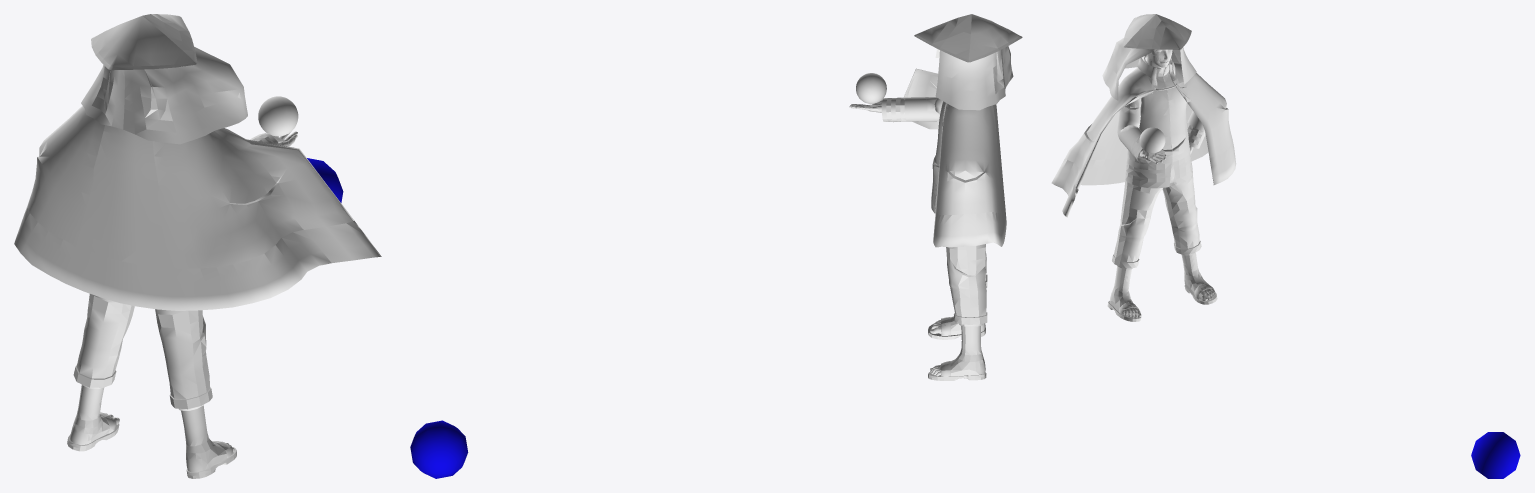
File: naruto.gltf
3 views of the same model, side by side, from view 1: azimuth 30°, elevation 25°; view 2: azimuth 150°, elevation 25°; view 3: azimuth 270°, elevation 25° (orthographic). The views are drawn at different scales.
Visible parts, largest first — view 1: Node5, Node1, Node6, Node10, Node13, Node9; view 2: Node5, Node1, Node6, Node13, Node9, Node10; view 3: Node5, Node6, Node9, Node1, Node13, Node10.
Boxes of the visible parts, x1,y1,x2,y2 form: Node5: (14,106,381,310); Node1: (81,14,247,144); Node6: (67,294,236,478); Node10: (258,96,298,136); Node13: (307,158,343,202); Node9: (249,131,297,146); Node5: (893,68,1006,247); Node1: (914,14,1022,110); Node6: (928,244,987,380); Node13: (410,420,468,478); Node9: (849,97,945,213); Node10: (856,73,886,103); Node5: (1051,56,1236,217); Node6: (1107,162,1217,321); Node9: (1117,55,1205,188); Node1: (1102,14,1196,100); Node13: (1471,432,1520,478); Node10: (1139,127,1165,153).
Size of the model in its own units: 16.23 by 14.69 by 18.96.
